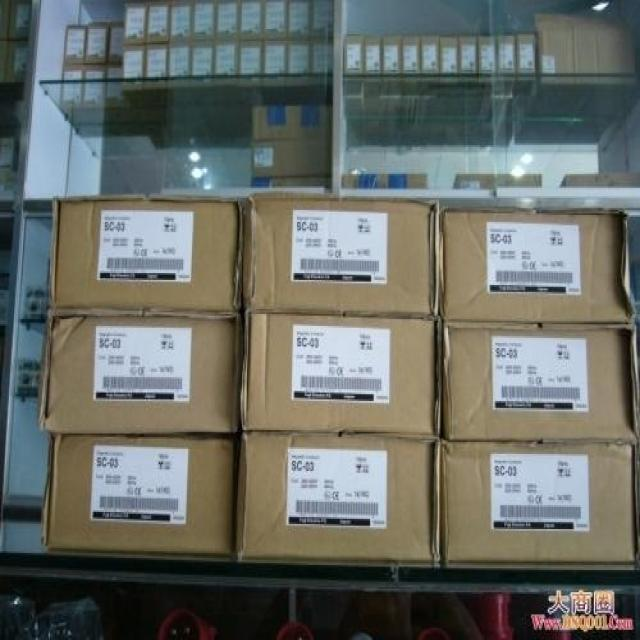box: (232, 433, 443, 570), (442, 437, 637, 570), (36, 312, 242, 435), (42, 433, 241, 558), (241, 312, 443, 435), (442, 319, 637, 445), (440, 198, 635, 323), (242, 196, 440, 316), (47, 196, 244, 312), (526, 15, 639, 118), (252, 104, 330, 177), (516, 34, 538, 99), (494, 34, 516, 97), (381, 32, 402, 97), (343, 34, 365, 96), (343, 172, 428, 188), (561, 172, 640, 188), (453, 174, 543, 188), (440, 34, 460, 96), (420, 36, 440, 96), (261, 41, 287, 87), (166, 0, 193, 44), (364, 34, 383, 96), (401, 34, 420, 96), (477, 34, 497, 92), (59, 63, 84, 109), (168, 43, 193, 89), (215, 0, 241, 44), (285, 41, 311, 85), (123, 43, 146, 92), (143, 41, 166, 90), (191, 44, 216, 89), (83, 24, 110, 65), (284, 0, 311, 41), (239, 39, 262, 87), (145, 0, 170, 43), (239, 0, 264, 43), (262, 0, 288, 41), (83, 65, 106, 111), (105, 65, 128, 111), (216, 43, 239, 89), (310, 39, 333, 85), (251, 176, 332, 189), (3, 39, 27, 82), (460, 34, 477, 94), (6, 2, 32, 41), (193, 0, 216, 44), (124, 2, 146, 46), (310, 0, 333, 41), (63, 26, 87, 65), (106, 24, 124, 65), (0, 39, 8, 82)
